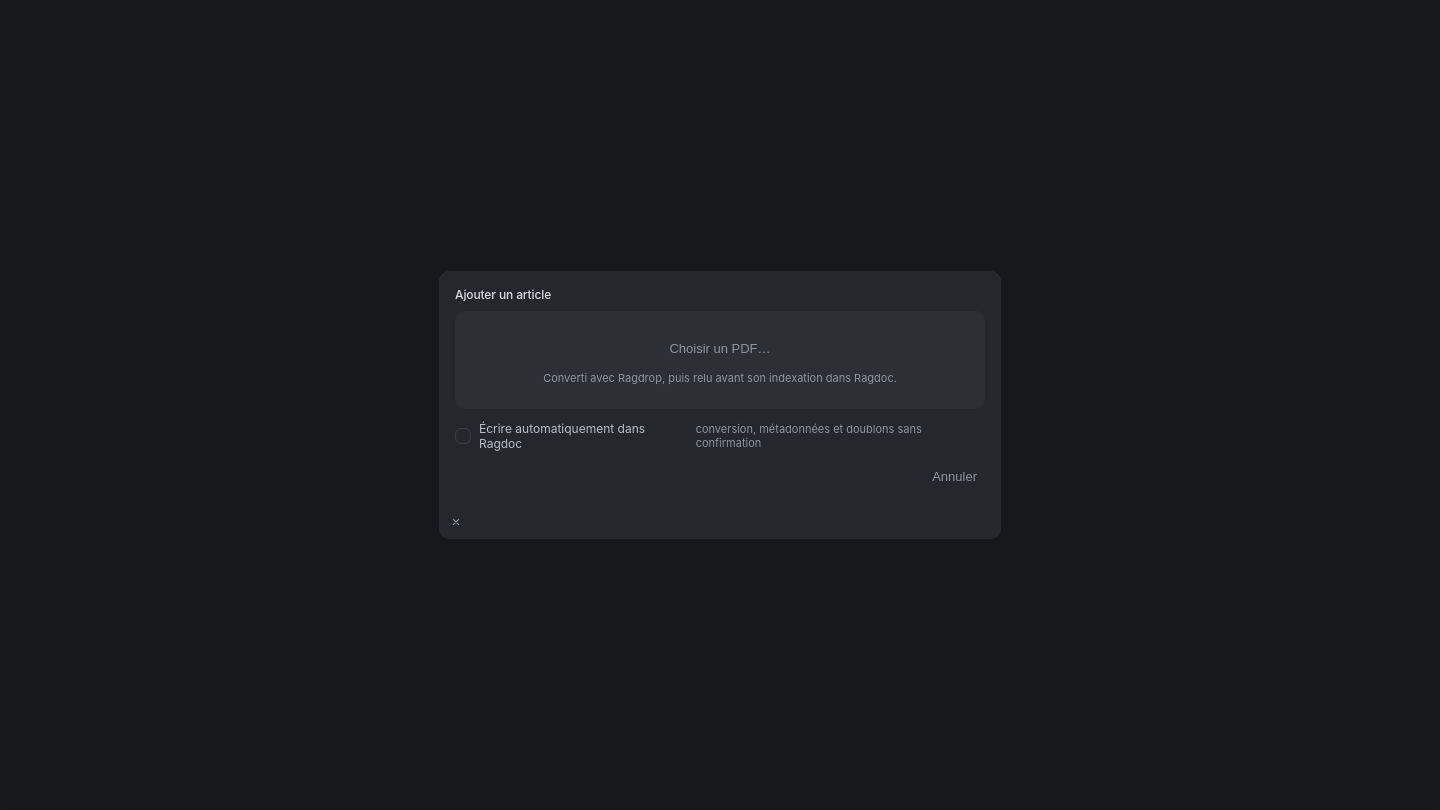
Test: ArticleDialog › ignore une réponse qui n'est pas la sienne
Click the button "Choisir un PDF…" at [720, 349], box [661,335,778,363]
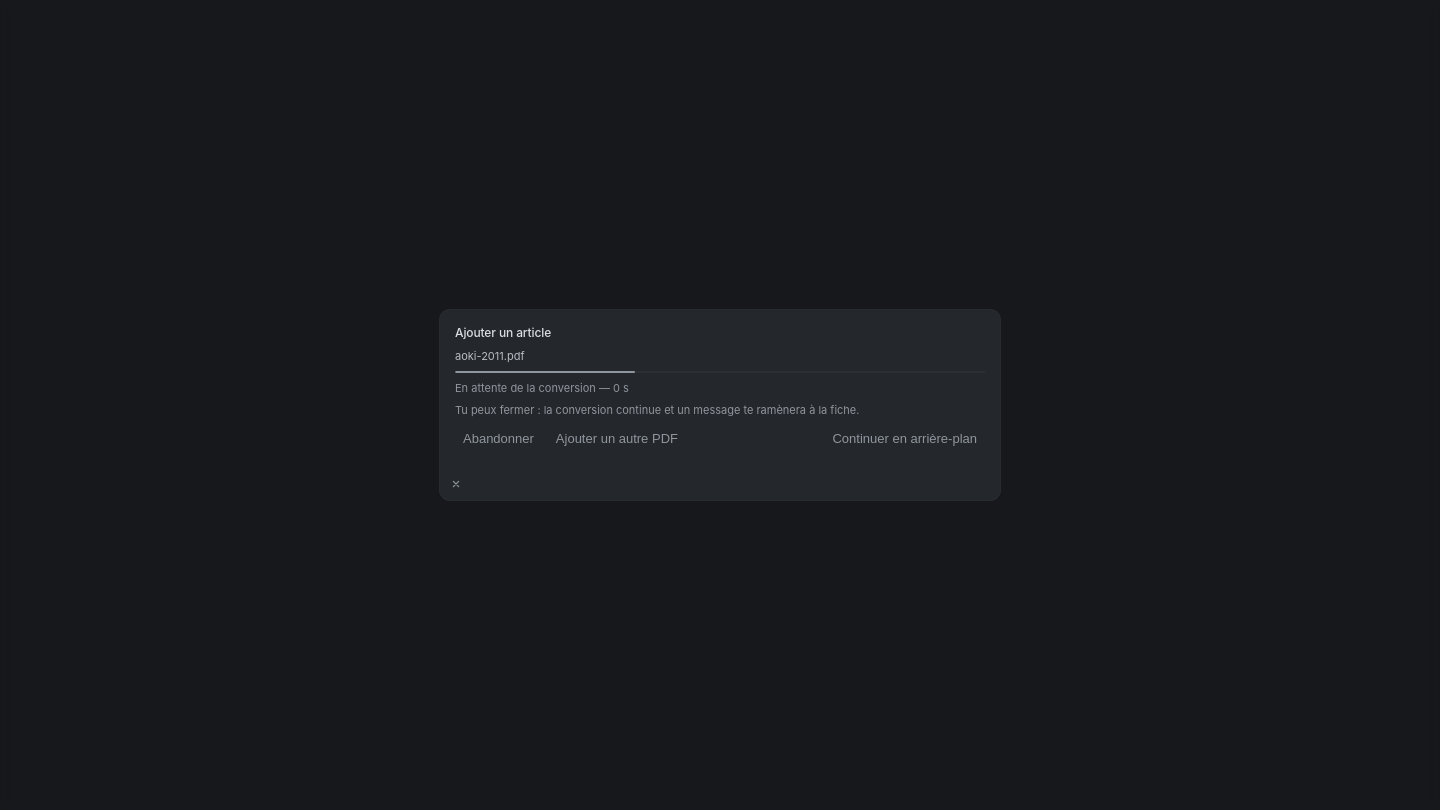
Check: the text "En attente de la conversion — 0 s" is shown, box [455,381,629,395]
